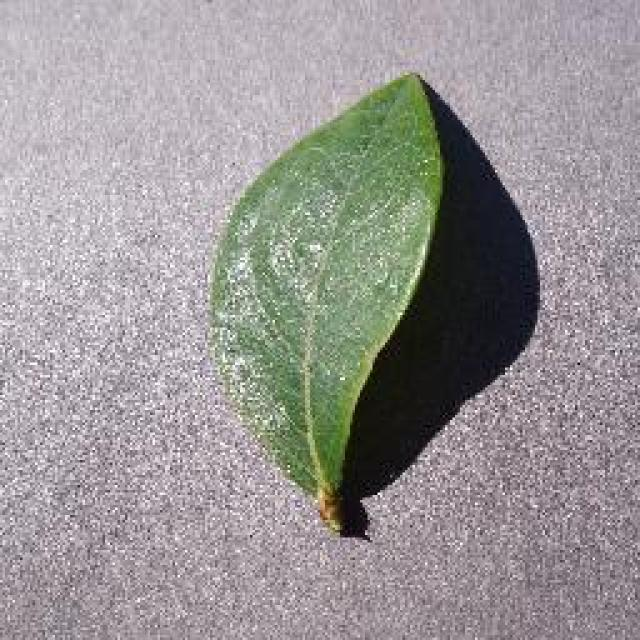Blu_healthy: (222, 128, 430, 410)
